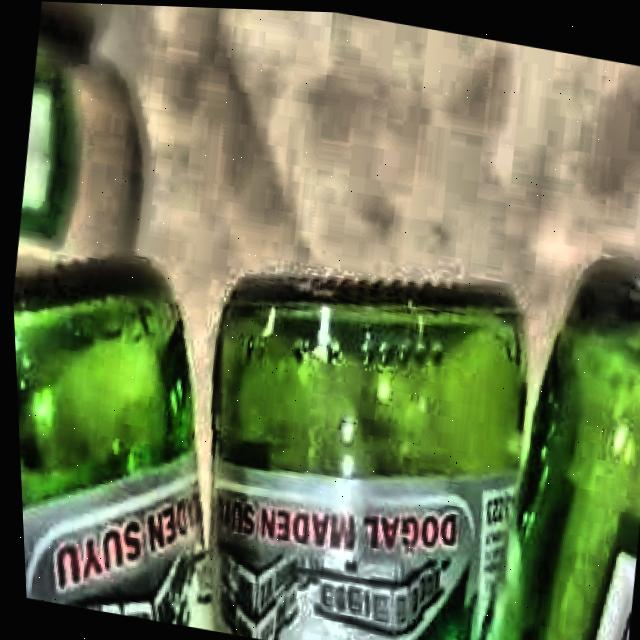glass: (10, 257, 640, 640)
